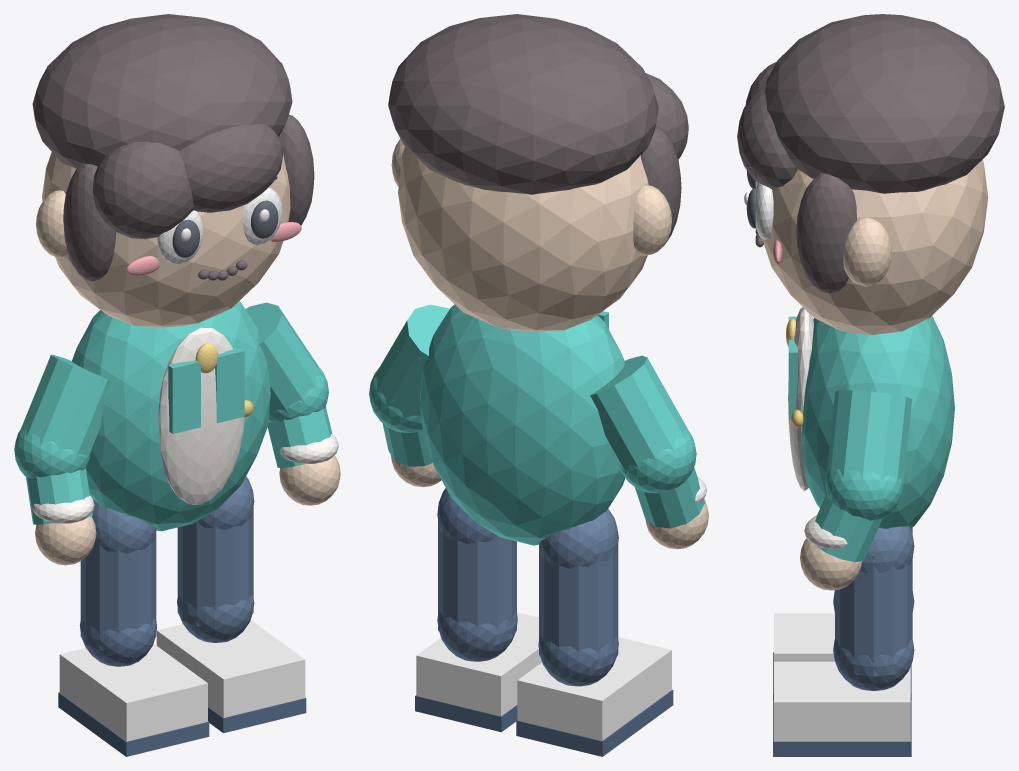
Rendered from avatar_ai_analyst.glb.
3 views of the same model, side by side, from view 1: azimuth 30°, elevation 25°; view 2: azimuth 150°, elevation 25°; view 3: azimuth 270°, elevation 25° (orthographic). The views are drawn at different scales.
Visible parts, largest first — view 1: hair_cap, torso, head, L_shoe, R_shoe, fringe_L, shirt_front, fringe_R, R_leg, L_leg, L_sleeve_upper, R_sleeve_upper (+23 smaller); view 2: hair_cap, torso, head, L_shoe, R_shoe, L_leg, L_sleeve_upper, R_leg, R_sleeve_upper, L_leg_top, L_sole, R_leg_bottom (+12 smaller); view 3: hair_cap, head, torso, R_shoe, R_sleeve_upper, R_leg, sideburn_R, fringe_R, R_elbow, L_shoe, ear_R, R_leg_bottom (+8 smaller).
Boxes of the visible parts, x1=… form: hair_cap: x1=32, y1=14, x2=292, y2=168; torso: x1=71, y1=301, x2=270, y2=531; head: x1=42, y1=152, x2=290, y2=327; L_shoe: x1=59, y1=644, x2=207, y2=741; R_shoe: x1=156, y1=620, x2=305, y2=717; fringe_L: x1=92, y1=141, x2=193, y2=239; shirt_front: x1=158, y1=327, x2=244, y2=504; fringe_R: x1=179, y1=124, x2=283, y2=212; R_leg: x1=177, y1=494, x2=253, y2=628; L_leg: x1=80, y1=532, x2=156, y2=652; L_sleeve_upper: x1=18, y1=354, x2=110, y2=463; R_sleeve_upper: x1=245, y1=302, x2=323, y2=418; hair_cap: x1=388, y1=14, x2=658, y2=194; torso: x1=419, y1=304, x2=625, y2=545; head: x1=398, y1=147, x2=648, y2=331; L_shoe: x1=517, y1=637, x2=671, y2=740; R_shoe: x1=416, y1=612, x2=541, y2=716; L_leg: x1=539, y1=532, x2=618, y2=671; L_sleeve_upper: x1=590, y1=355, x2=690, y2=474; R_leg: x1=438, y1=507, x2=516, y2=646; R_sleeve_upper: x1=372, y1=304, x2=449, y2=420; L_leg_top: x1=539, y1=509, x2=618, y2=568; L_sole: x1=516, y1=689, x2=673, y2=756; R_leg_bottom: x1=437, y1=611, x2=517, y2=661; hair_cap: x1=764, y1=14, x2=1004, y2=193; head: x1=757, y1=159, x2=988, y2=334; torso: x1=801, y1=316, x2=954, y2=528; R_shoe: x1=774, y1=661, x2=910, y2=741; R_sleeve_upper: x1=826, y1=390, x2=912, y2=486; R_leg: x1=835, y1=553, x2=912, y2=676; sideburn_R: x1=796, y1=173, x2=856, y2=293; fringe_R: x1=737, y1=86, x2=797, y2=189; R_elbow: x1=825, y1=469, x2=903, y2=520; L_shoe: x1=774, y1=613, x2=834, y2=661; ear_R: x1=843, y1=217, x2=891, y2=286; R_leg_bottom: x1=833, y1=639, x2=914, y2=690.
Bounding box in the file's own units: 0.972 × 2.03 × 0.725.
